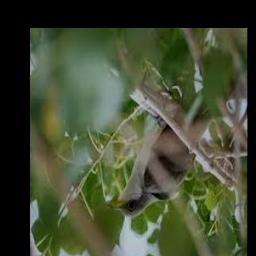Cuckoo: (106, 88, 211, 218)
